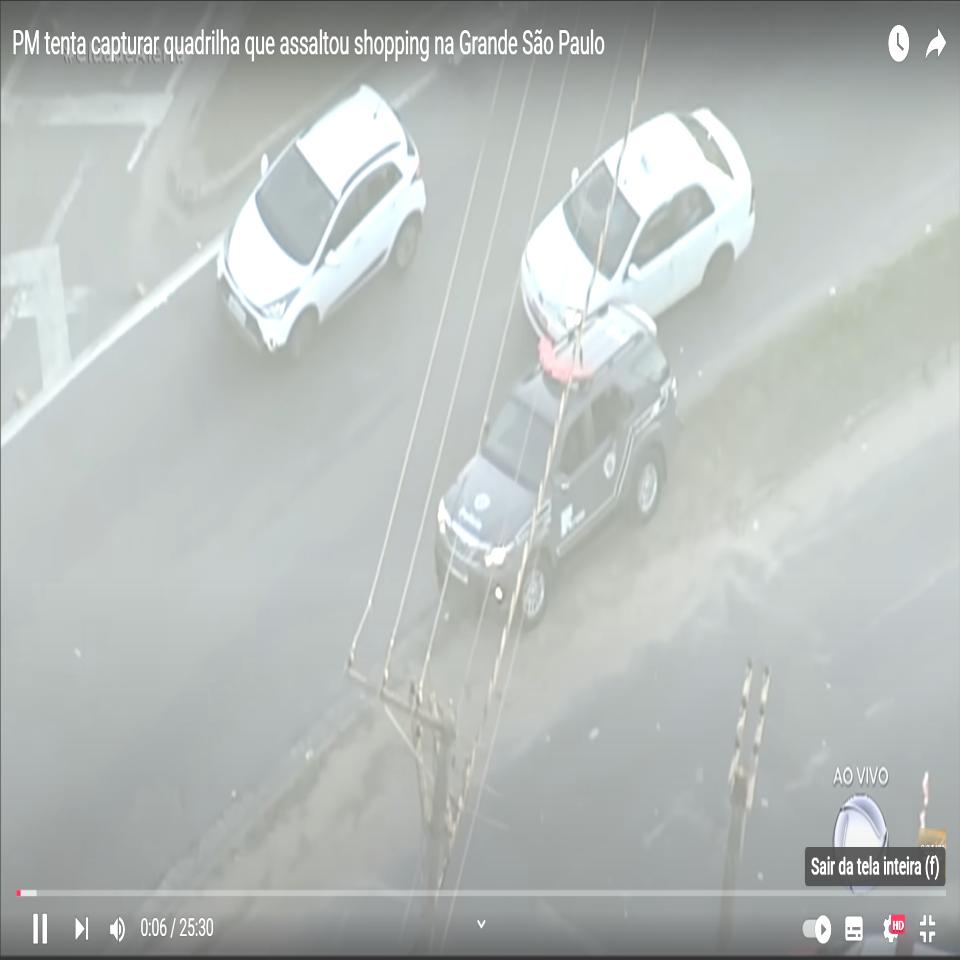viatura: (433, 300, 676, 632)
